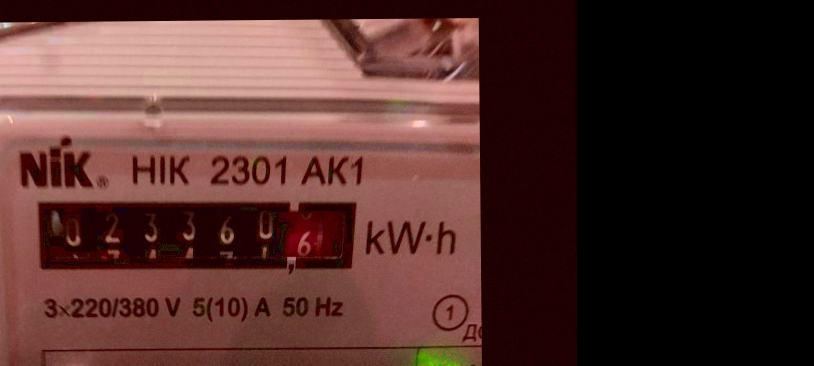0: (253, 206, 276, 241), (61, 212, 83, 247)
2: (101, 209, 122, 245)
3: (140, 209, 160, 244), (179, 208, 197, 242)
6: (216, 210, 236, 245), (294, 225, 312, 258)
screen: (23, 186, 375, 288)
